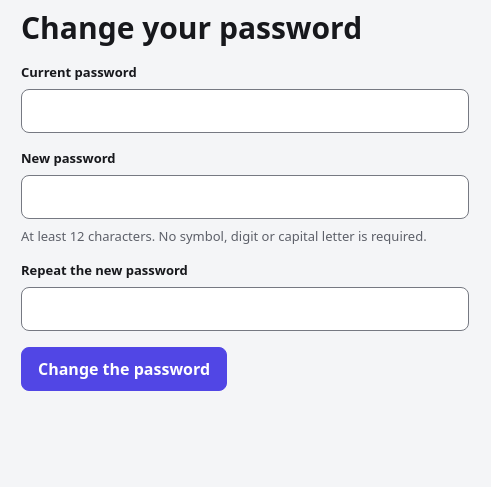
Test: change — this session survives, every other one ends › asks nothing of the API for a new password shorter than the rule
Type "the current one" into the password field labelled "Current password". click: (245, 111)
box: [21,89,469,133]
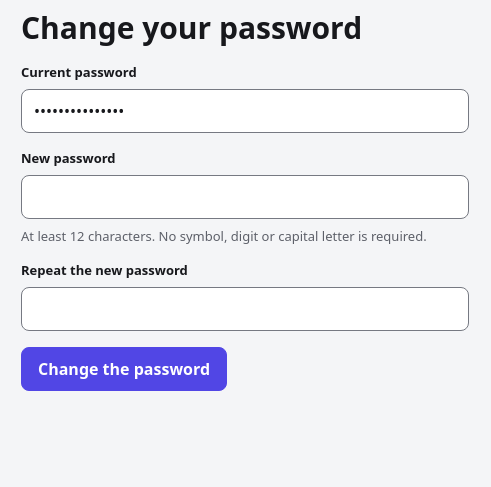
Type "eleven-char" into the password field labelled "New password". click: (245, 197)
box: [21,175,469,219]
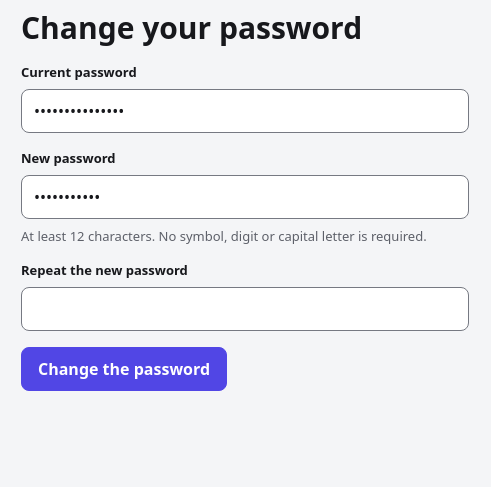
Type "eleven-char" into the password field labelled "Repeat the new password". click: (245, 309)
box: [21,287,469,331]
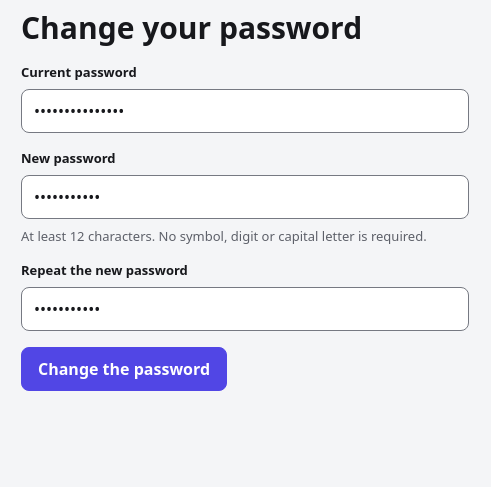
Click the button "Change the password". click: (124, 369)
box: [21,347,227,391]
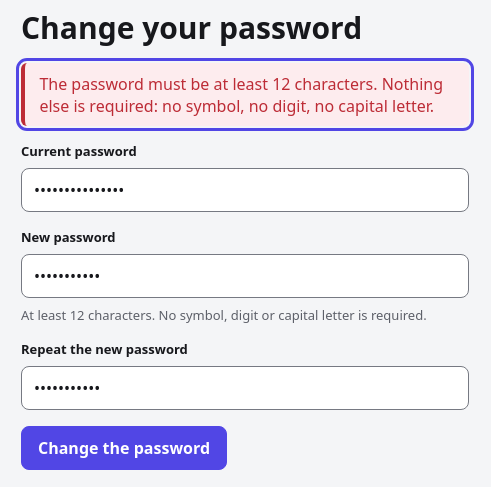
expect the message shows "at least 12 characters": met, box [39,73,443,117]
